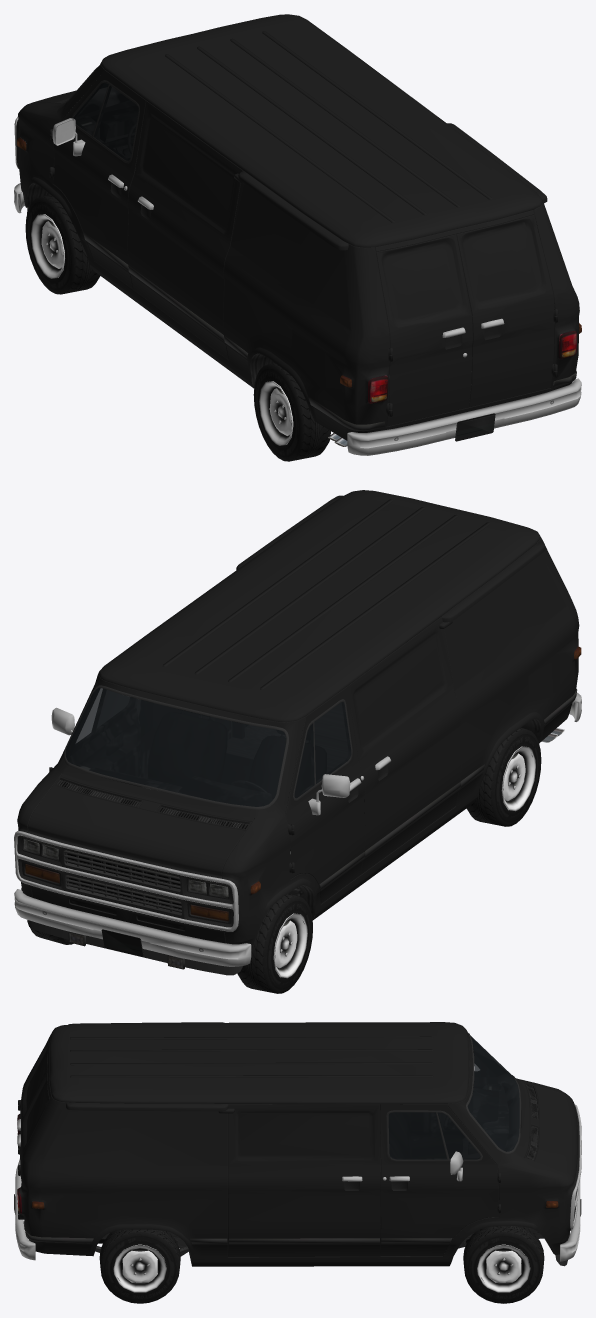
File: car3_van_panel_90s.glb
3 renders of one model, top to bottom at view 1: azimuth 30°, elevation 25°; view 2: azimuth 150°, elevation 25°; view 3: azimuth 270°, elevation 25°, orthographic. The views are drawn at different scales.
Visible parts, largest first — view 1: Shvan92_Body_Shvan92_bodymat_0, Shvan92_Bumper_rear_UCB_BOTTOM_0, Shvan92_Bottom_UCB_BOTTOM_0, Shvan92_WheelStock_RL_RB1c_Tire_1k_0, Shvan92_WheelStock_FL_RB1c_Tire_1k_0, Shvan92_Interior_UCB_Interiors_1_0, Shvan92_Glass_Driver_UCB_Lights_and_Glass_Transperent_0, Shvan92_Body_glass_UCB_Lights_and_Glass_Transperent_0; view 2: Shvan92_Body_Shvan92_bodymat_0, Shvan92_Bottom_UCB_BOTTOM_0, Shvan92_Interior_UCB_Interiors_1_0, Shvan92_Windshield_UCB_Lights_and_Glass_Transperent_0, Shvan92_Hood_Shvan92_bodymat_0, Shvan92_Bumper_front_UCB_BOTTOM_0, Shvan92_WheelStock_FL_RB1c_Tire_1k_0, Shvan92_WheelStock_RL_RB1c_Tire_1k_0, Shvan92_Glass_Driver_UCB_Lights_and_Glass_Transperent_0, Shvan92_Headlights_Glass_UCB_Lights_and_Glass_Transperent_0, Shvan92_Body_glass_UCB_Lights_and_Glass_Transperent_0, Shvan92_Blinkers_UCB_Lights_and_Glass_0 (+1 smaller); view 3: Shvan92_Body_Shvan92_bodymat_0, Shvan92_Interior_UCB_Interiors_1_0, Shvan92_Bottom_UCB_BOTTOM_0, Shvan92_WheelStock_FR_RB1c_Tire_1k_0, Shvan92_WheelStock_RL_RB1c_Tire_1k_0, Shvan92_Windshield_UCB_Lights_and_Glass_Transperent_0, Shvan92_Hood_Shvan92_bodymat_0, Shvan92_Glass_Passanger_UCB_Lights_and_Glass_Transperent_0, Shvan92_Body_glass_UCB_Lights_and_Glass_Transperent_0, Shvan92_Bumper_rear_UCB_BOTTOM_0, Shvan92_Bumper_front_UCB_BOTTOM_0.
Part boxes in pixels (x1=…): Shvan92_Body_Shvan92_bodymat_0: x1=16, y1=14, x2=579, y2=440; Shvan92_Bumper_rear_UCB_BOTTOM_0: x1=347, y1=378, x2=581, y2=455; Shvan92_Bottom_UCB_BOTTOM_0: x1=14, y1=67, x2=581, y2=446; Shvan92_WheelStock_RL_RB1c_Tire_1k_0: x1=253, y1=362, x2=330, y2=461; Shvan92_WheelStock_FL_RB1c_Tire_1k_0: x1=25, y1=194, x2=100, y2=294; Shvan92_Interior_UCB_Interiors_1_0: x1=68, y1=83, x2=554, y2=384; Shvan92_Glass_Driver_UCB_Lights_and_Glass_Transperent_0: x1=93, y1=85, x2=138, y2=160; Shvan92_Body_glass_UCB_Lights_and_Glass_Transperent_0: x1=73, y1=82, x2=108, y2=135; Shvan92_Body_Shvan92_bodymat_0: x1=17, y1=490, x2=579, y2=947; Shvan92_Bottom_UCB_BOTTOM_0: x1=14, y1=646, x2=581, y2=975; Shvan92_Interior_UCB_Interiors_1_0: x1=66, y1=688, x2=454, y2=853; Shvan92_Windshield_UCB_Lights_and_Glass_Transperent_0: x1=65, y1=688, x2=286, y2=806; Shvan92_Hood_Shvan92_bodymat_0: x1=27, y1=785, x2=245, y2=878; Shvan92_Bumper_front_UCB_BOTTOM_0: x1=14, y1=889, x2=251, y2=966; Shvan92_WheelStock_FL_RB1c_Tire_1k_0: x1=237, y1=893, x2=312, y2=993; Shvan92_WheelStock_RL_RB1c_Tire_1k_0: x1=466, y1=728, x2=541, y2=826; Shvan92_Glass_Driver_UCB_Lights_and_Glass_Transperent_0: x1=314, y1=702, x2=351, y2=783; Shvan92_Headlights_Glass_UCB_Lights_and_Glass_Transperent_0: x1=23, y1=839, x2=228, y2=921; Shvan92_Body_glass_UCB_Lights_and_Glass_Transperent_0: x1=294, y1=723, x2=314, y2=798; Shvan92_Blinkers_UCB_Lights_and_Glass_0: x1=26, y1=864, x2=228, y2=920; Shvan92_Body_Shvan92_bodymat_0: x1=18, y1=1022, x2=575, y2=1266; Shvan92_Interior_UCB_Interiors_1_0: x1=32, y1=1039, x2=521, y2=1208; Shvan92_Bottom_UCB_BOTTOM_0: x1=17, y1=1033, x2=581, y2=1266; Shvan92_WheelStock_FR_RB1c_Tire_1k_0: x1=463, y1=1226, x2=544, y2=1303; Shvan92_WheelStock_RL_RB1c_Tire_1k_0: x1=99, y1=1229, x2=180, y2=1303; Shvan92_Windshield_UCB_Lights_and_Glass_Transperent_0: x1=467, y1=1035, x2=519, y2=1151; Shvan92_Hood_Shvan92_bodymat_0: x1=534, y1=1085, x2=579, y2=1184; Shvan92_Glass_Passanger_UCB_Lights_and_Glass_Transperent_0: x1=388, y1=1112, x2=446, y2=1159; Shvan92_Body_glass_UCB_Lights_and_Glass_Transperent_0: x1=437, y1=1112, x2=480, y2=1159; Shvan92_Bumper_rear_UCB_BOTTOM_0: x1=14, y1=1159, x2=35, y2=1260; Shvan92_Bumper_front_UCB_BOTTOM_0: x1=560, y1=1179, x2=581, y2=1261.
Bounding box in the file's own units: 2.4 × 1.97 × 5.
6 materials, 5 textured.
